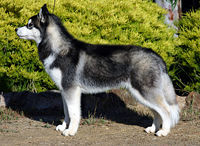dog: (12, 1, 183, 139)
